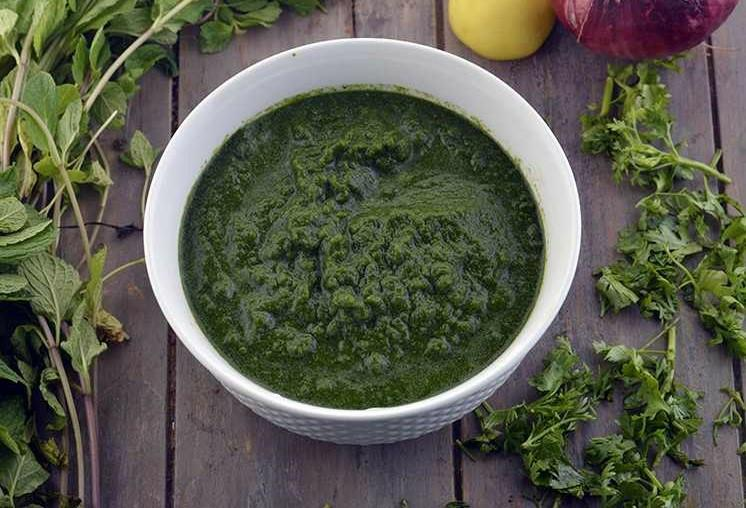GreenChutney: (180, 89, 542, 408)
